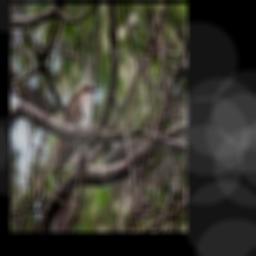Cuckoo: (30, 82, 98, 196)
